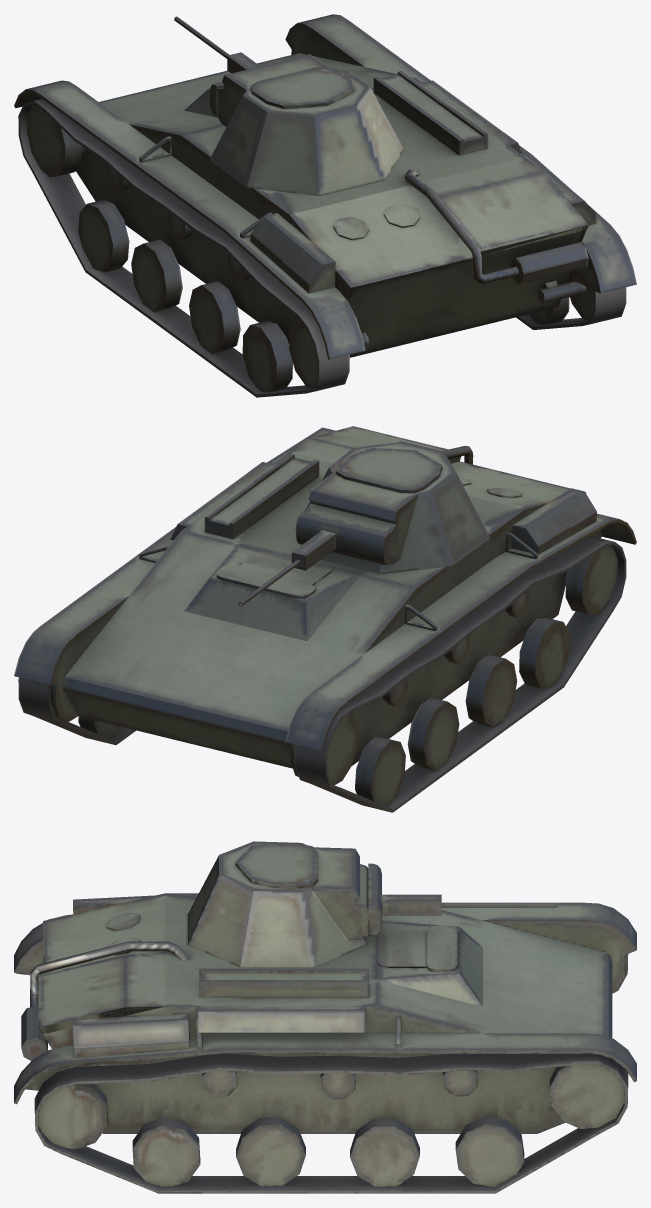
The picture shows the model from 3 angles, top to bottom: view 1: azimuth 30°, elevation 25°; view 2: azimuth 150°, elevation 25°; view 3: azimuth 270°, elevation 25°; orthographic projection.
Visible parts, largest first — view 1: T-60 Hull, T-60 Turret; view 2: T-60 Hull, T-60 Turret; view 3: T-60 Hull, T-60 Turret.
Part boxes in pixels (<box>): T-60 Hull: <box>14,14,636,397</box>; T-60 Turret: <box>174,16,403,195</box>; T-60 Hull: <box>14,426,636,812</box>; T-60 Turret: <box>238,441,490,606</box>; T-60 Hull: <box>14,893,636,1193</box>; T-60 Turret: <box>188,841,556,967</box>.
Bounding box in the file's own units: 2.32 × 1.73 × 4.12.
